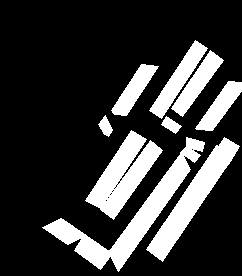parkingspot: (146, 137, 239, 261), (108, 152, 190, 271), (100, 140, 162, 219), (85, 130, 146, 208), (149, 40, 207, 118), (171, 50, 223, 116), (111, 64, 158, 115), (195, 81, 242, 130), (74, 234, 112, 269), (42, 218, 86, 244), (161, 116, 181, 133), (180, 146, 200, 162), (98, 115, 112, 136), (186, 137, 204, 151)
